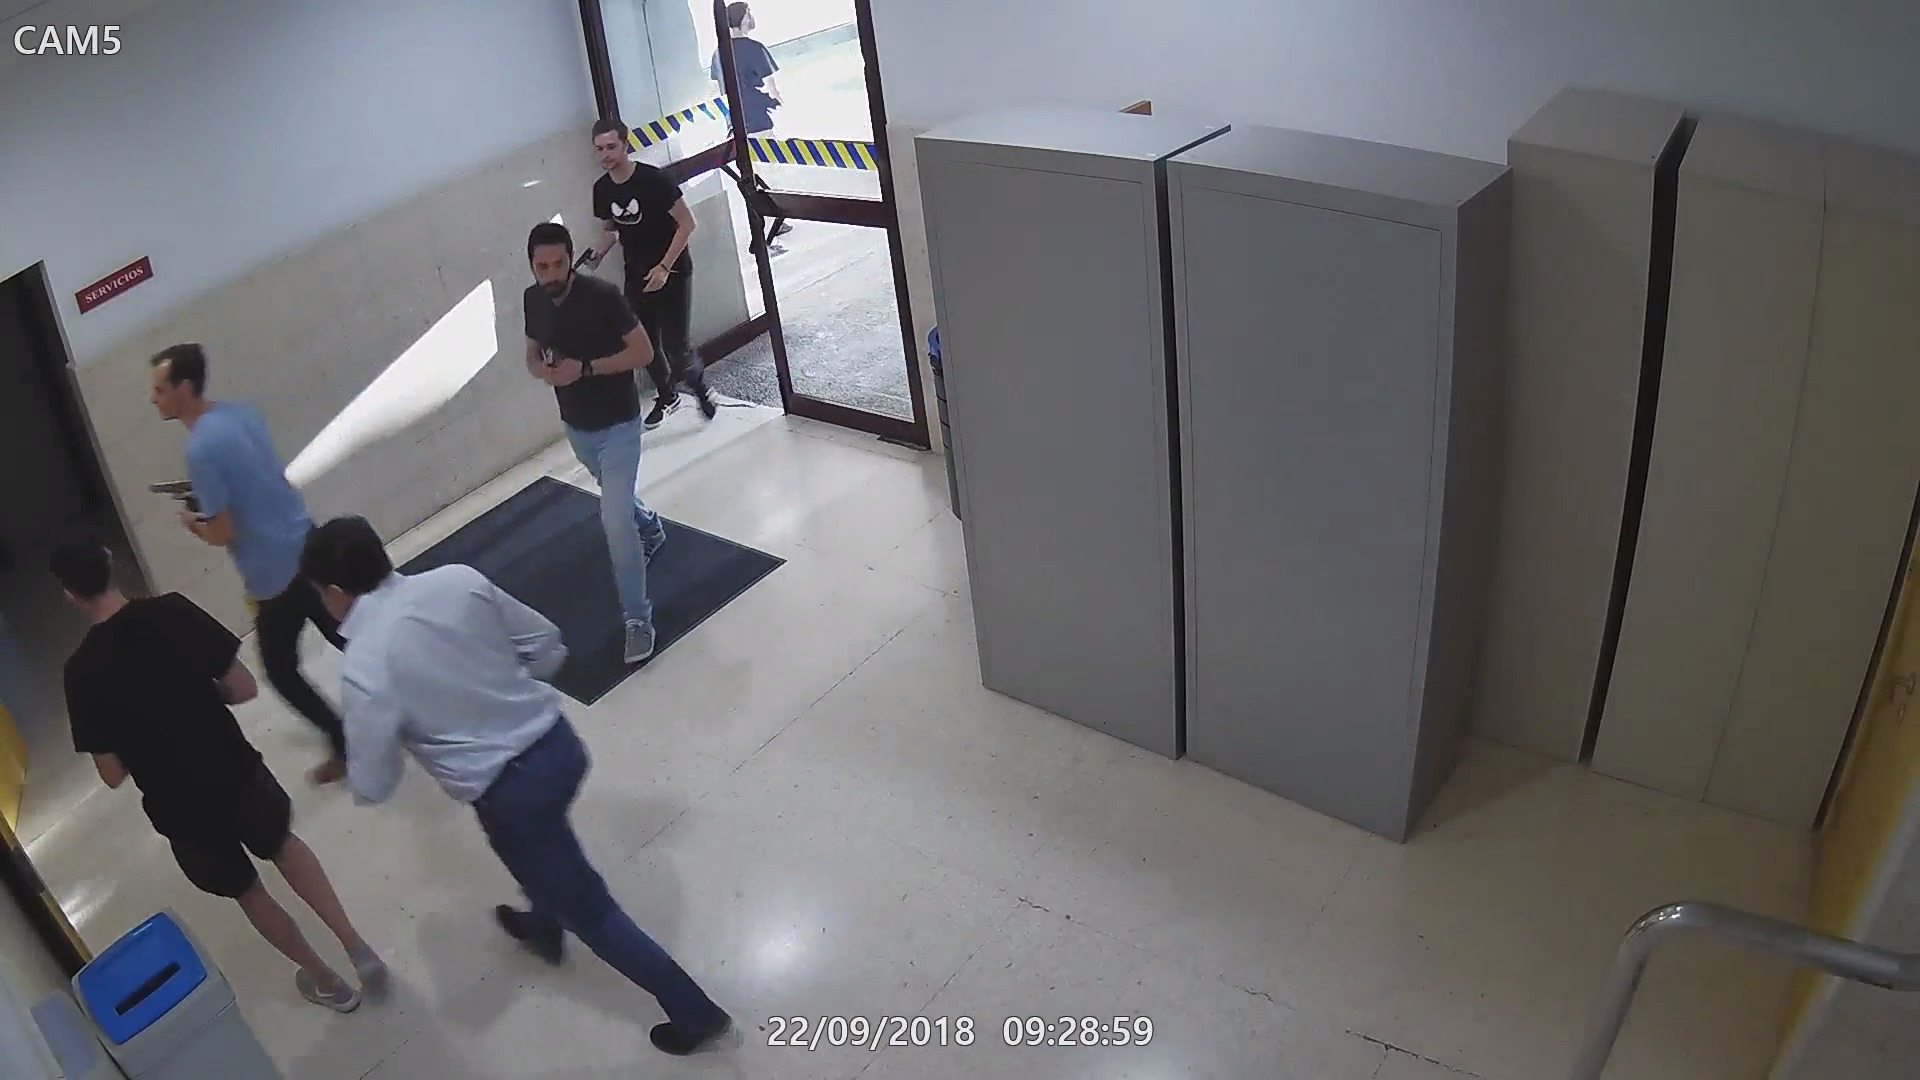pistol: (141, 477, 206, 516), (539, 343, 568, 392), (568, 241, 605, 272)
